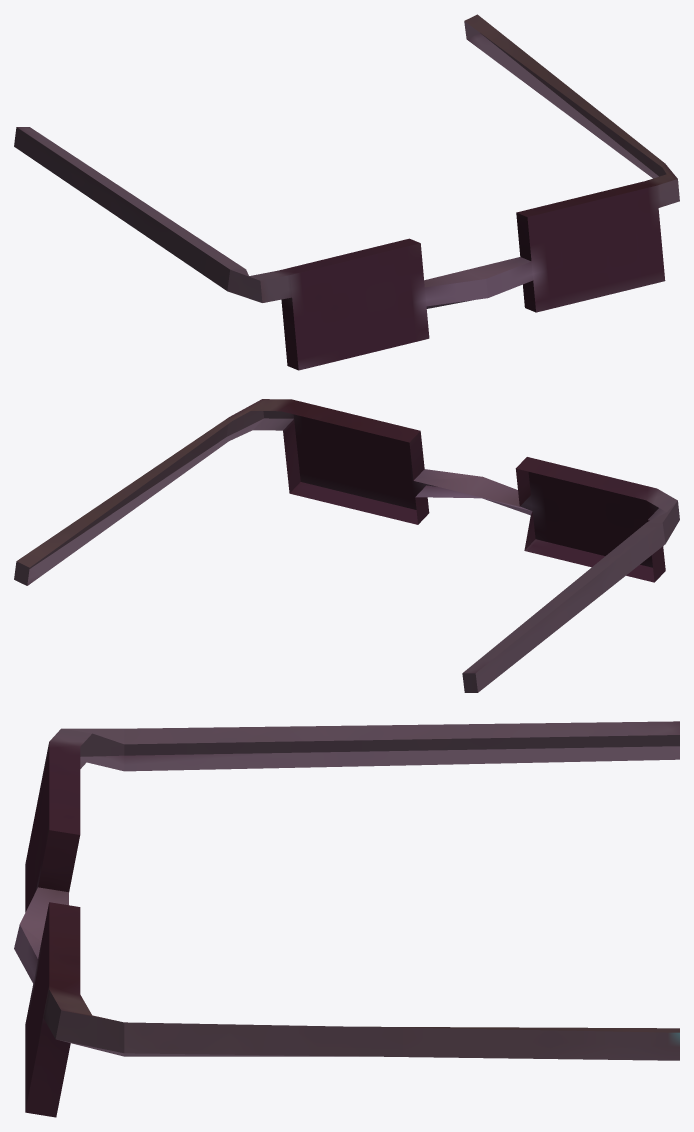
File: Glass.FBX
3 renders of one model, top to bottom at view 1: azimuth 30°, elevation 25°; view 2: azimuth 150°, elevation 25°; view 3: azimuth 270°, elevation 25°, orthographic. The views are drawn at different scales.
Visible parts, largest first — view 1: Glass; view 2: Glass; view 3: Glass.
Boxes of the visible parts, x1,y1,x2,y2 form: Glass: [14, 14, 679, 370]; Glass: [14, 399, 679, 692]; Glass: [14, 721, 679, 1117].
Bounding box in the file's own units: 213 × 191 × 40.5.
1 material, 1 textured.
